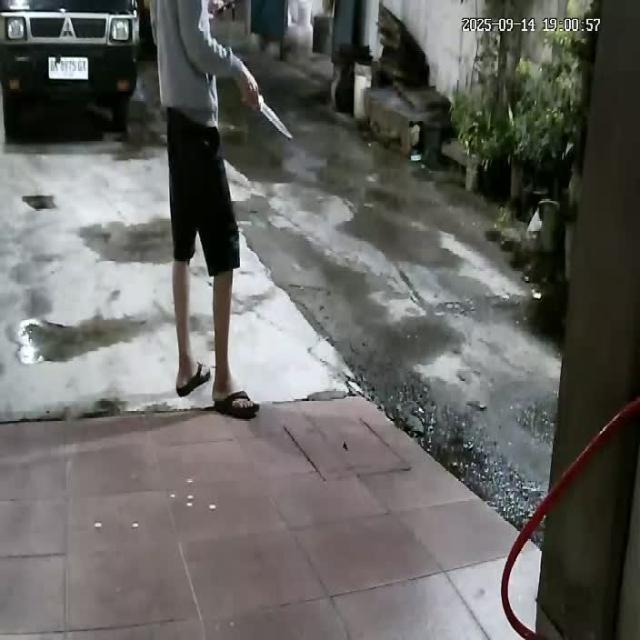senjata_tajam: (258, 98, 294, 142)
